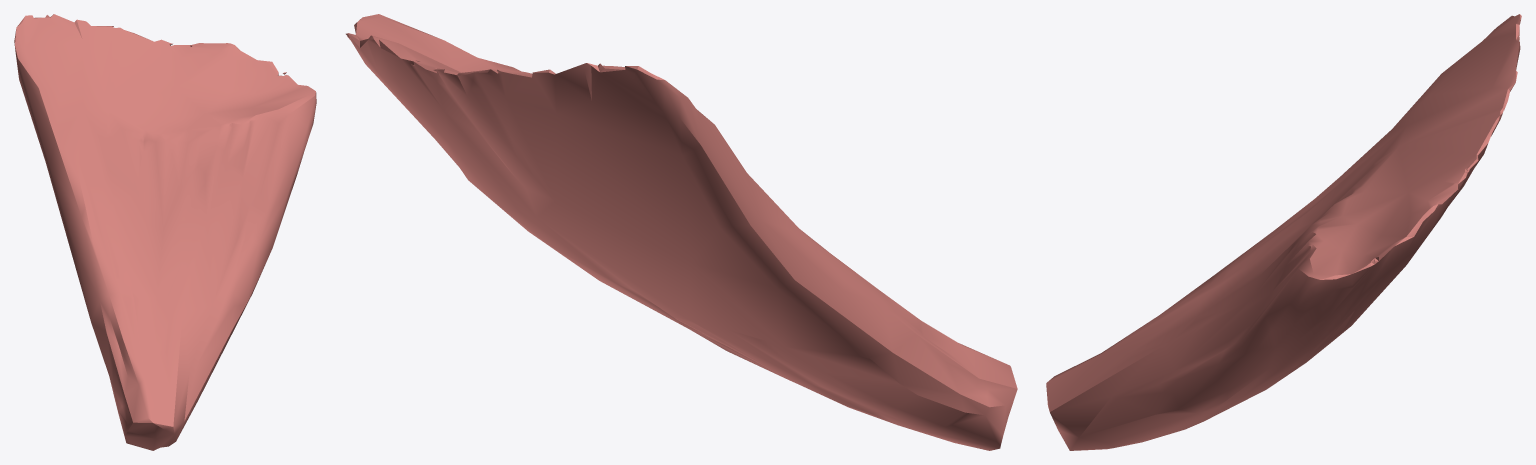
File: fma32533_fj1568.glb
3 views of the same model, side by side, from view 1: azimuth 30°, elevation 25°; view 2: azimuth 150°, elevation 25°; view 3: azimuth 270°, elevation 25° (orthographic). The views are drawn at different scales.
Visible parts, largest first — view 1: FMA32533_FJ1568; view 2: FMA32533_FJ1568; view 3: FMA32533_FJ1568.
Part boxes in pixels (x1,y1,x2,y2): FMA32533_FJ1568: (14, 14, 316, 450); FMA32533_FJ1568: (346, 14, 1017, 450); FMA32533_FJ1568: (1046, 14, 1521, 450).
Bounding box in the file's own units: 0.0242 × 0.0268 × 0.0258.
